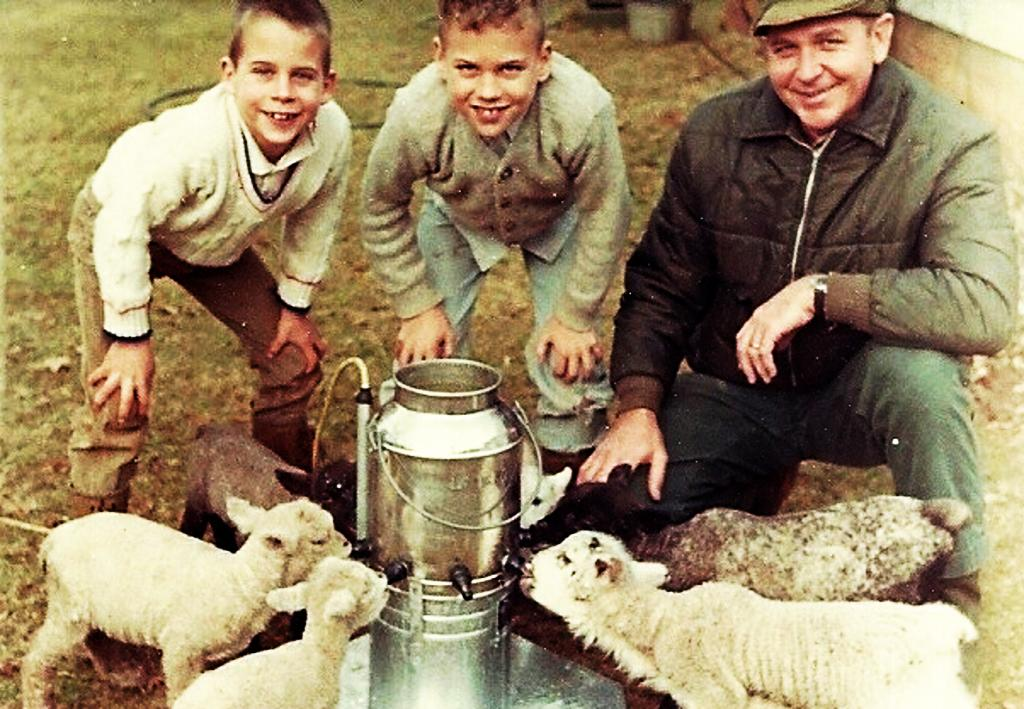Sheep: (516, 536, 980, 708), (29, 488, 383, 706), (187, 557, 411, 709)
